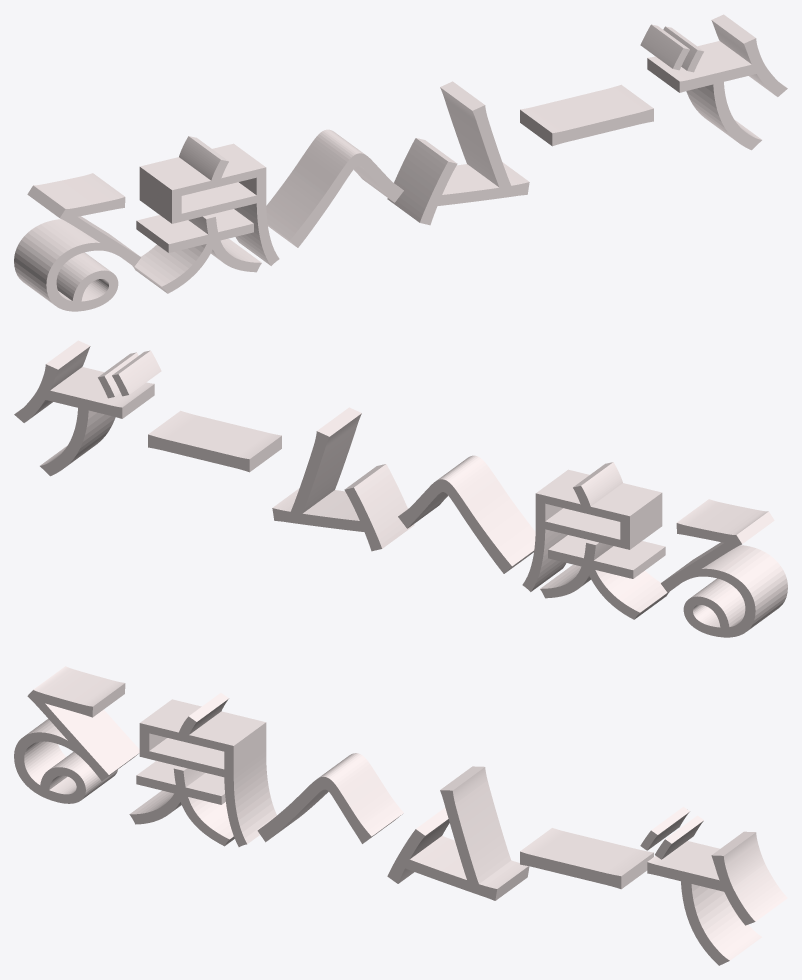
Rendered from resume.obj.
3 views of the same model, one above another, from view 1: azimuth 30°, elevation 25°; view 2: azimuth 150°, elevation 25°; view 3: azimuth 330°, elevation 25° (orthographic).
Parts seen in each view (by area): view 1: テキスト; view 2: テキスト; view 3: テキスト.
Boxes of the visible parts, <box> form: テキスト: <box>14,14,787,311</box>; テキスト: <box>14,340,787,637</box>; テキスト: <box>14,666,787,965</box>.
Size of the model in its own units: 5.8 by 0.907 by 0.4394.
Materials: 1 (1 with a texture image).
